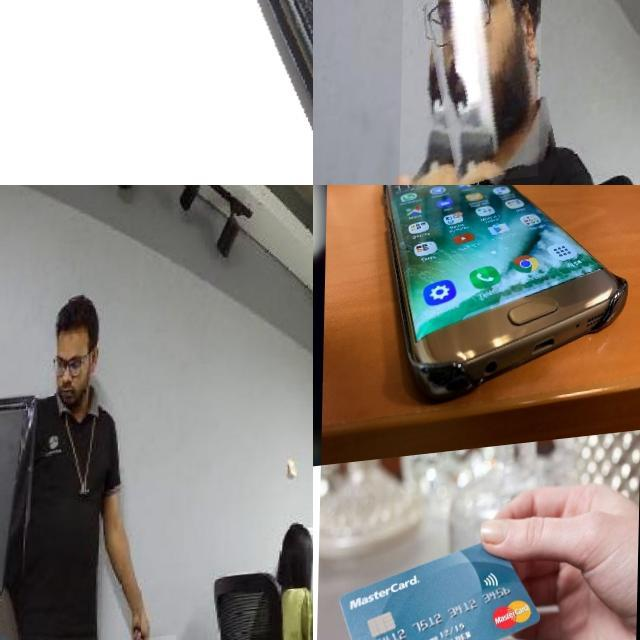-: (401, 0, 547, 185)
gun-knife-thesis - v11 Yolov5 augmented: (0, 0, 313, 185)
